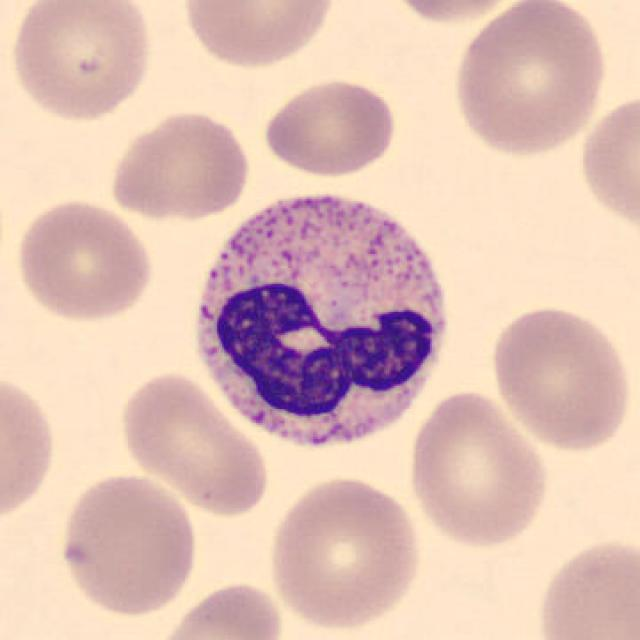Neutrophil: (178, 175, 464, 472)
RBC: (263, 471, 425, 633), (448, 0, 612, 159), (403, 388, 553, 552), (114, 368, 274, 518), (485, 301, 635, 455), (53, 469, 203, 621), (5, 0, 156, 125), (11, 196, 158, 324), (105, 106, 254, 222), (258, 74, 400, 180), (178, 0, 340, 71), (532, 532, 638, 640), (574, 86, 638, 242), (0, 366, 60, 527), (151, 578, 288, 640), (380, 0, 535, 26)
